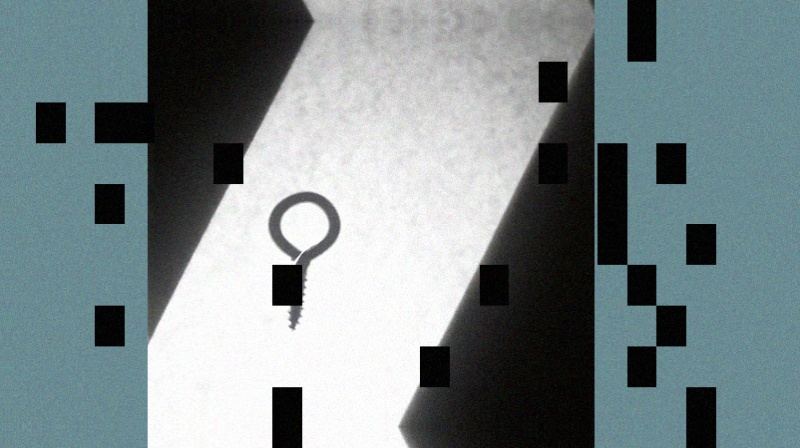O001: (265, 184, 343, 335)
